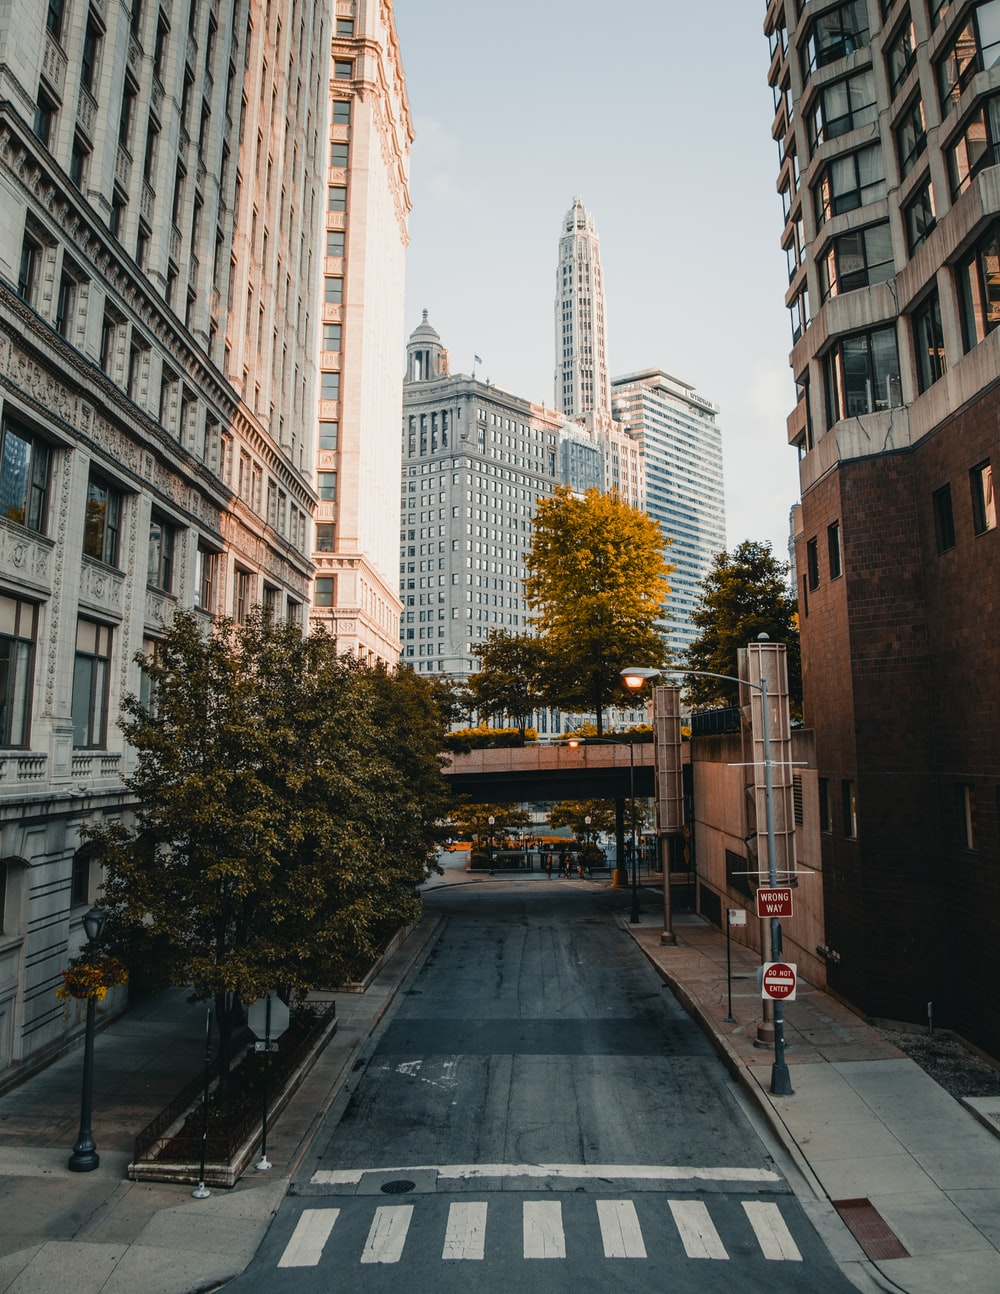strada: (322, 878, 747, 1281)
striscie pedonali: (294, 1201, 806, 1265)
